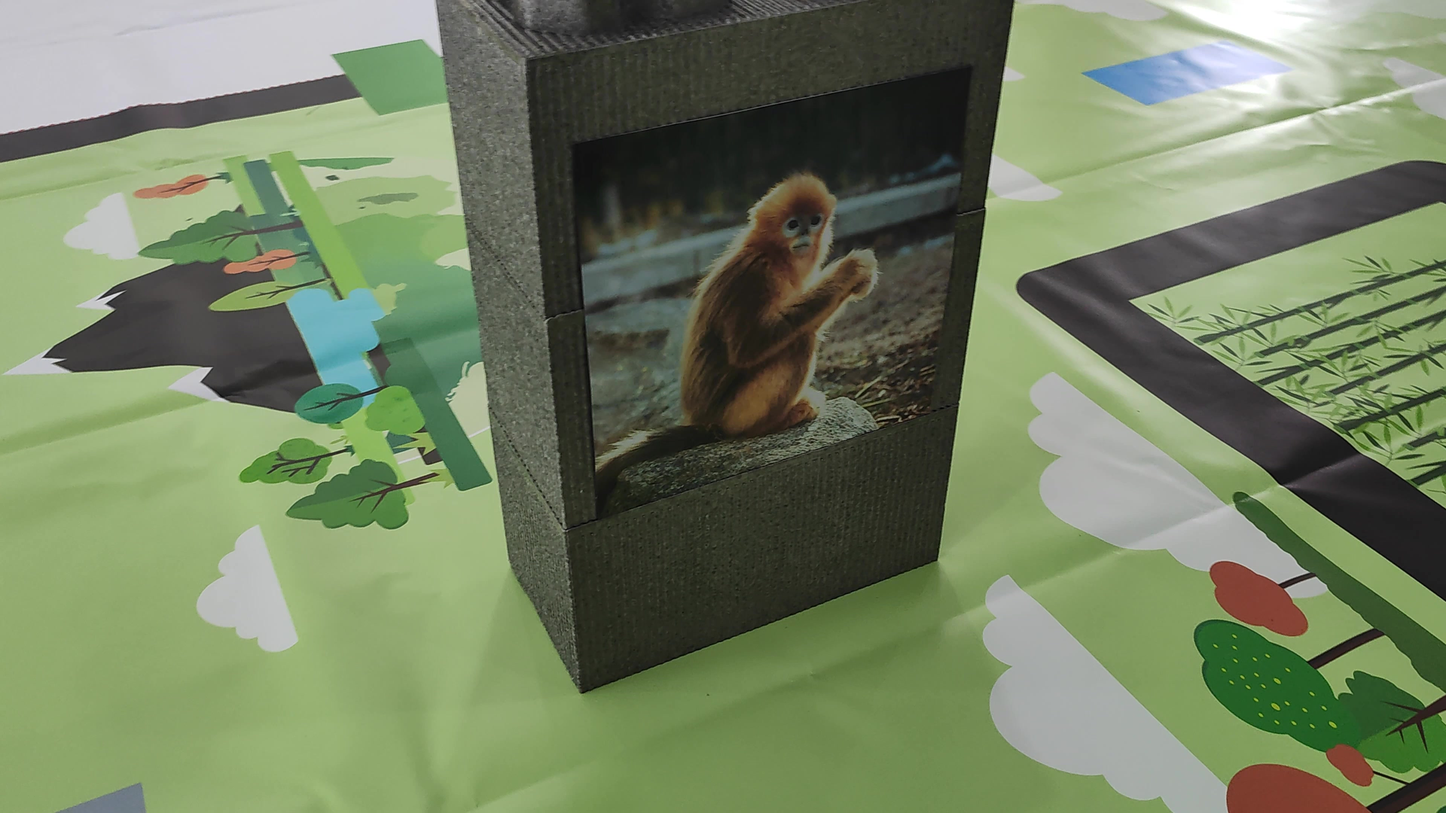monkey: (583, 144, 888, 516)
